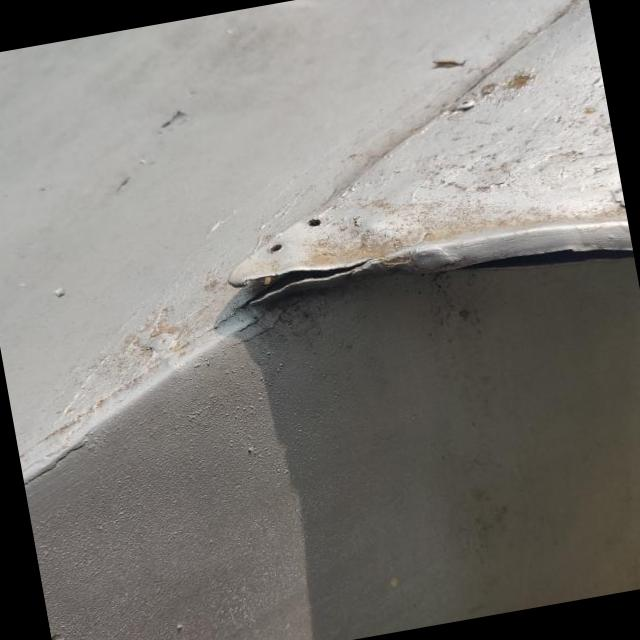Crack: (214, 257, 381, 329)
